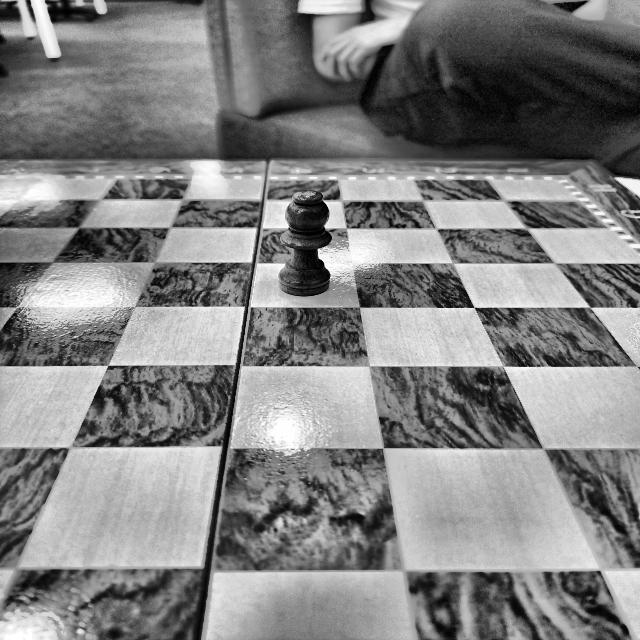black-bishop: (278, 191, 333, 297)
